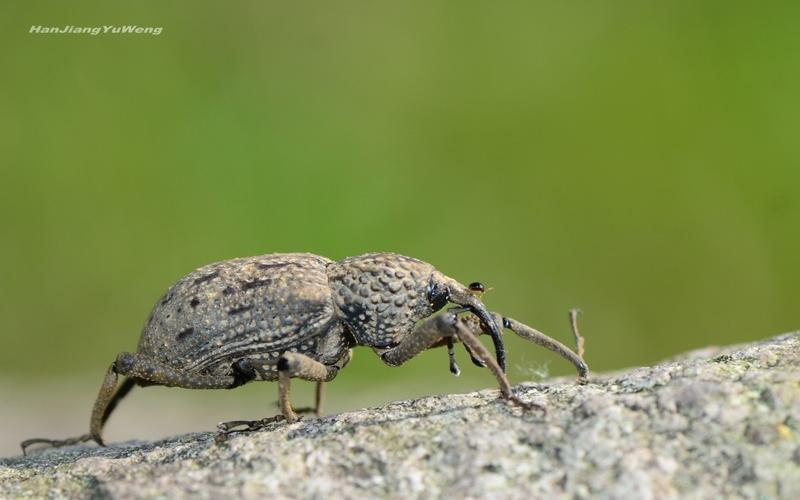Curculionidae: (20, 251, 590, 455)
